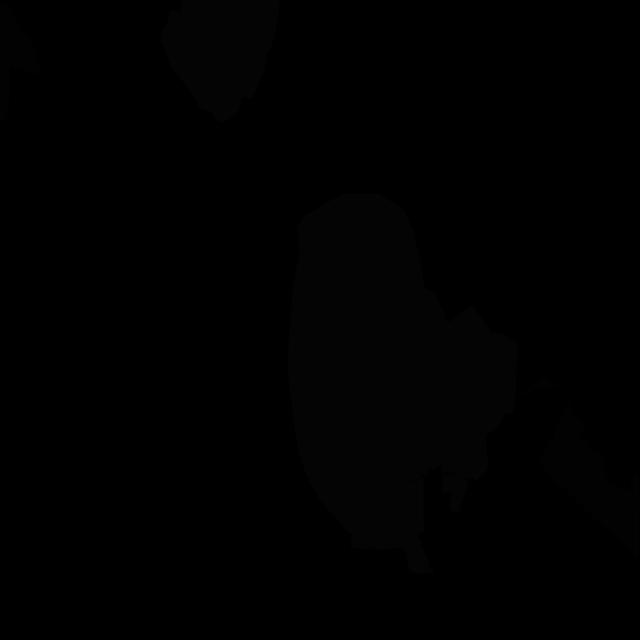cardboard: (540, 402, 635, 550), (0, 0, 41, 125), (626, 471, 639, 565), (522, 376, 561, 397)
soft_plastic: (288, 193, 466, 575), (403, 305, 518, 481), (160, 0, 279, 123), (442, 473, 469, 513)
